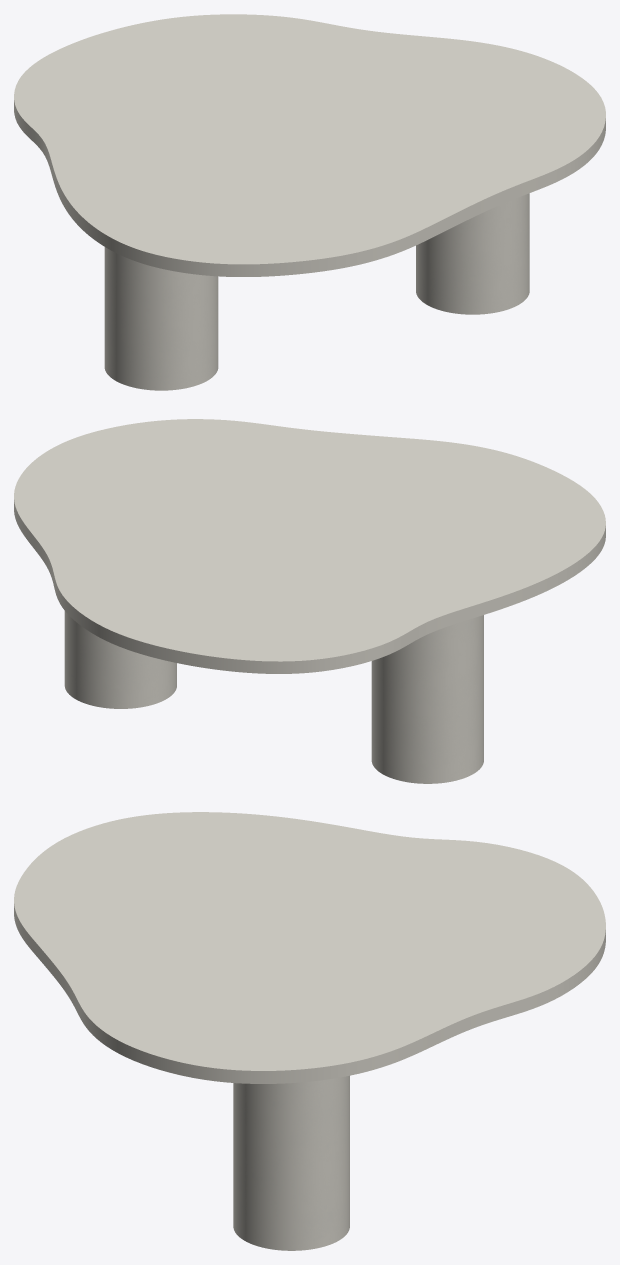
File: pale_topone_standard_stream.glb
The picture shows the model from 3 angles, top to bottom: view 1: azimuth 30°, elevation 25°; view 2: azimuth 150°, elevation 25°; view 3: azimuth 270°, elevation 25°; orthographic projection. The views are drawn at different scales.
Parts seen in each view (by area): view 1: standard_topone, stream; view 2: standard_topone, stream; view 3: standard_topone, stream.
Part boxes in pixels (x1,y1,x2,y2): standard_topone: (14, 14, 605, 276); stream: (104, 193, 529, 390); standard_topone: (14, 419, 605, 673); stream: (64, 611, 483, 783); standard_topone: (14, 812, 605, 1083); stream: (233, 1075, 349, 1250).
Bounding box in the file's own units: 6.83 × 2.5 × 6.6.
1 material, 1 textured.
